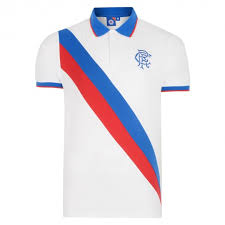C_polo shirt: (29, 10, 197, 216)
